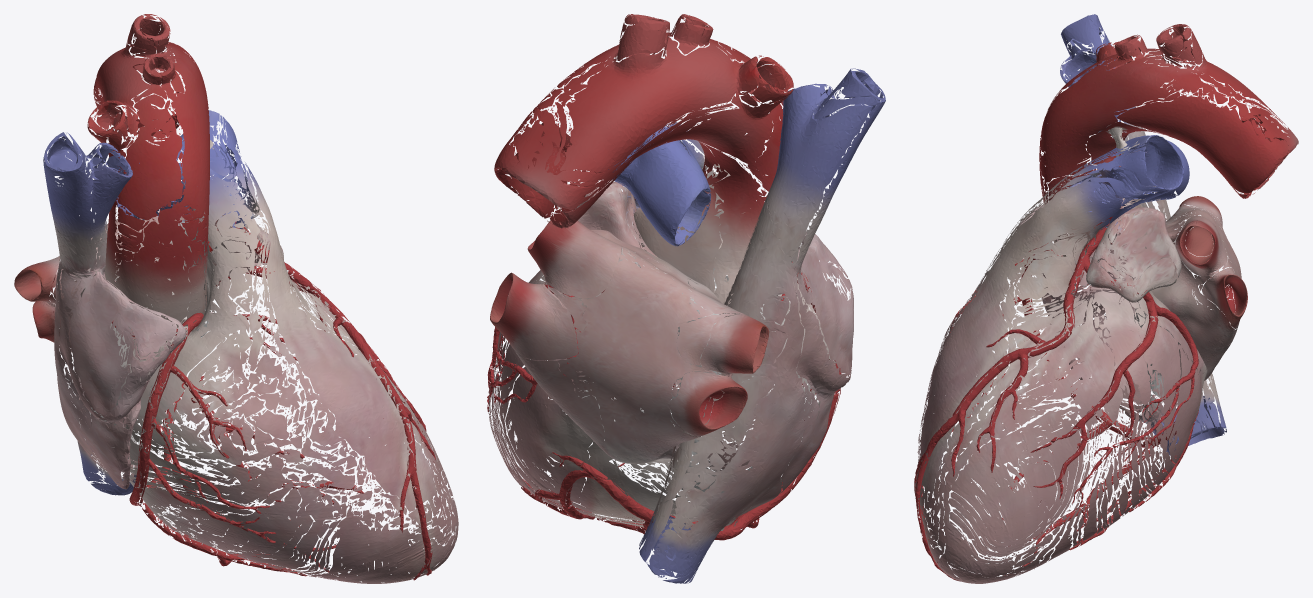
The model's file is cuore.glb.
The picture shows the model from 3 angles, left to right: view 1: azimuth 30°, elevation 25°; view 2: azimuth 150°, elevation 25°; view 3: azimuth 270°, elevation 25°; orthographic projection. The views are drawn at different scales.
Visible parts, largest first — view 1: geometry_0; view 2: geometry_0; view 3: geometry_0.
Part boxes in pixels (box(x1,y1,x2,y2)): geometry_0: box(14, 14, 458, 583); geometry_0: box(487, 14, 885, 583); geometry_0: box(914, 14, 1298, 583).
Size of the model in its own units: 1.35 by 1.87 by 1.35.
